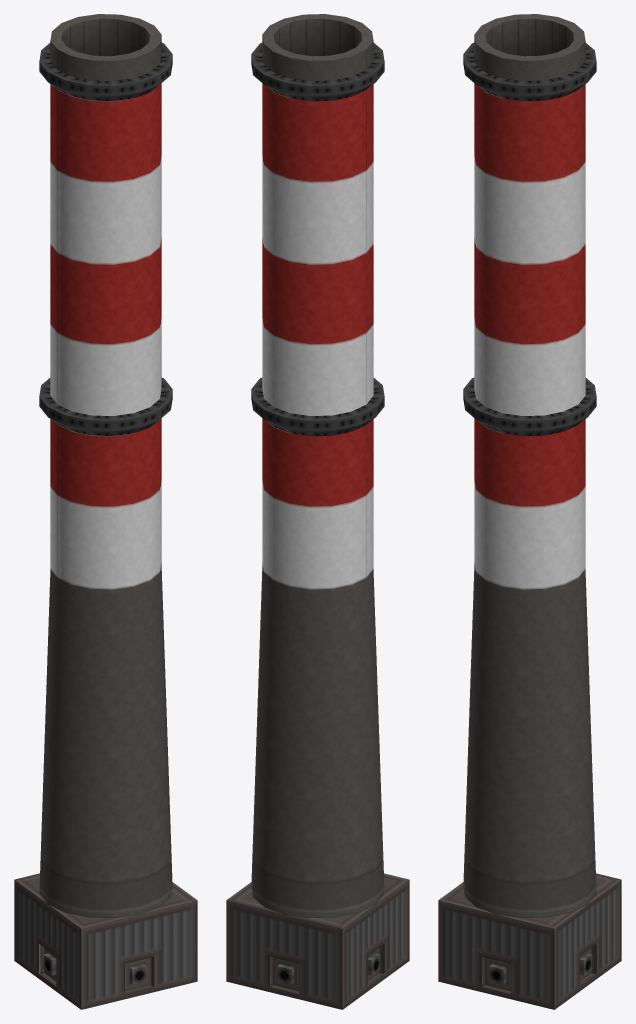
Rendered from chimney_industrial.obj.
3 views of the same model, side by side, from view 1: azimuth 30°, elevation 25°; view 2: azimuth 150°, elevation 25°; view 3: azimuth 330°, elevation 25° (orthographic).
Visible parts, largest first — view 1: Plane; view 2: Plane; view 3: Plane.
Boxes of the visible parts, left/top/right/bottom form: Plane: left=14, top=14, right=197, bottom=1009; Plane: left=226, top=14, right=409, bottom=1009; Plane: left=438, top=14, right=621, bottom=1009.
Size of the model in its own units: 3 by 23 by 3.
